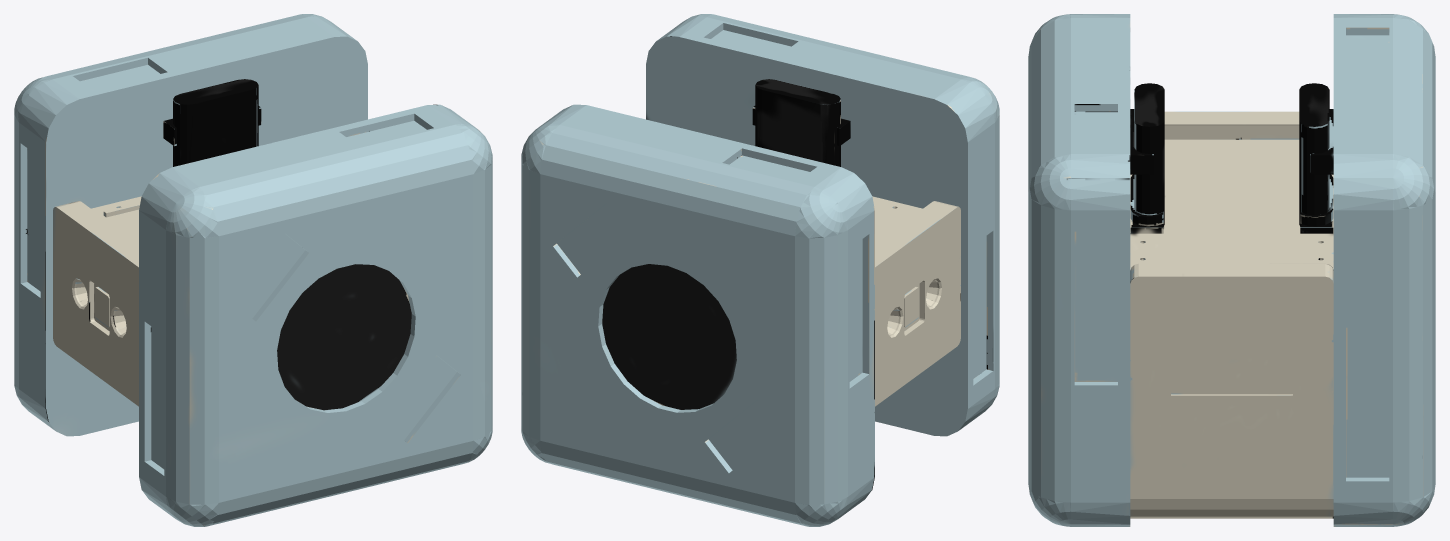
File: astrobee.dae
The picture shows the model from 3 angles, left to right: view 1: azimuth 30°, elevation 25°; view 2: azimuth 150°, elevation 25°; view 3: azimuth 270°, elevation 25°; orthographic projection. The views are drawn at different scales.
Parts seen in each view (by area): view 1: Freeflyer; view 2: Freeflyer; view 3: Freeflyer.
Boxes of the visible parts, x1,y1,x2,y2 form: Freeflyer: (14, 14, 492, 526); Freeflyer: (521, 14, 999, 526); Freeflyer: (1028, 14, 1435, 526).
Size of the model in its own units: 0.3048 by 0.3048 by 0.3048.
Materials: 1 (1 with a texture image).
